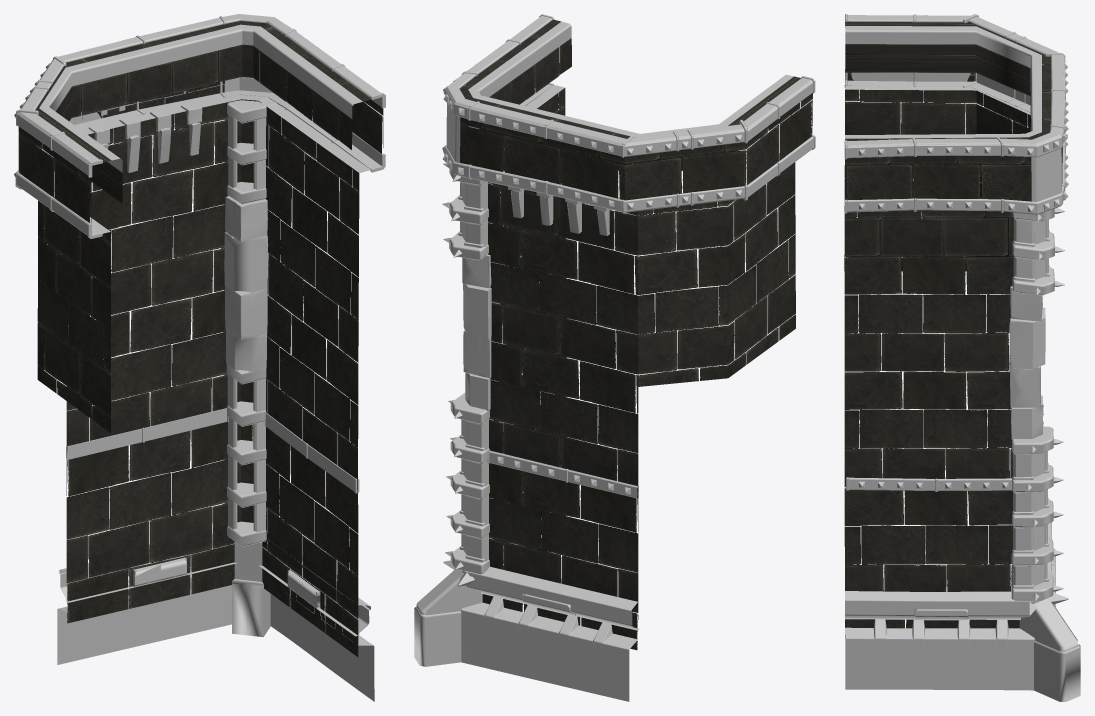
3 renders of one model, left to right at view 1: azimuth 30°, elevation 25°; view 2: azimuth 150°, elevation 25°; view 3: azimuth 270°, elevation 25°, orthographic. The views are drawn at different scales.
Parts seen in each view (by area): view 1: SM_DR_Gateway_Sides_Corner_LOD0; view 2: SM_DR_Gateway_Sides_Corner_LOD0; view 3: SM_DR_Gateway_Sides_Corner_LOD0.
Boxes of the visible parts, x1,y1,x2,y2 form: SM_DR_Gateway_Sides_Corner_LOD0: (14,14,385,701); SM_DR_Gateway_Sides_Corner_LOD0: (414,14,815,701); SM_DR_Gateway_Sides_Corner_LOD0: (844,14,1080,701).
Size of the model in its own units: 10.09 by 18.93 by 7.34.
